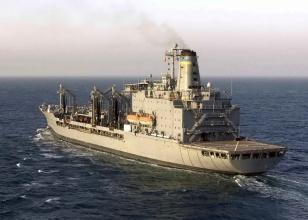warship: (29, 45, 284, 172)
